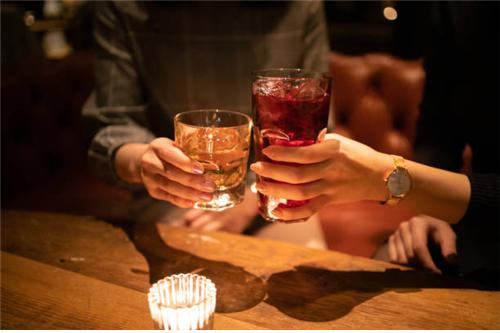alcohol: (252, 70, 331, 224), (171, 107, 249, 213)
